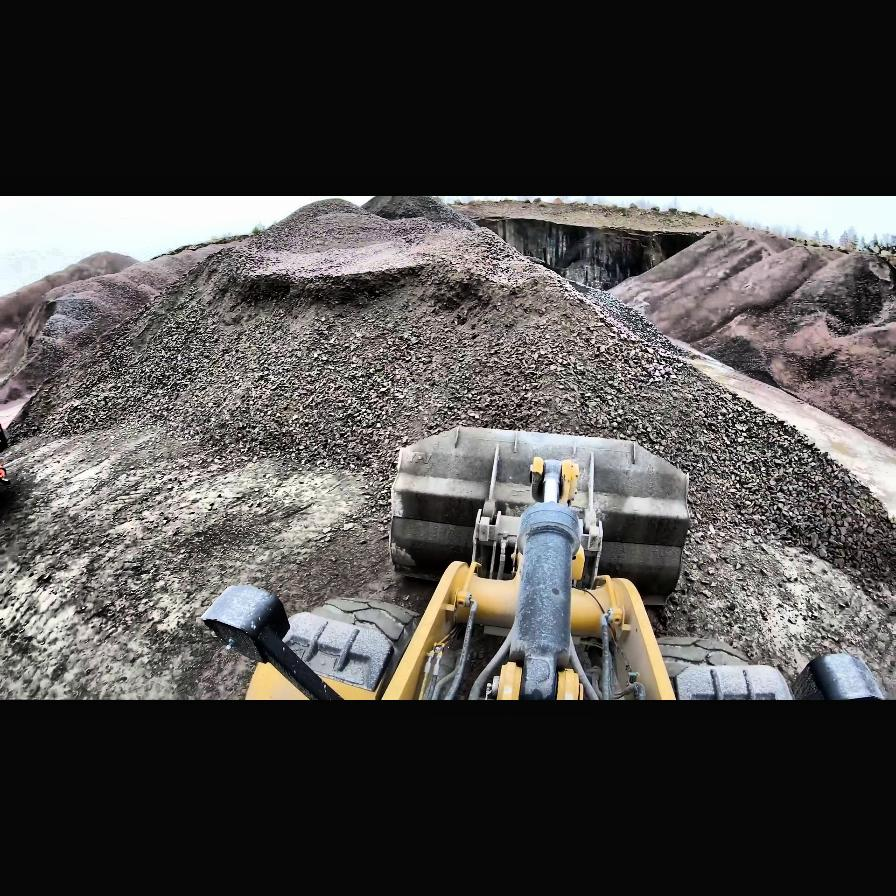anchor: (530, 458, 580, 506)
pile of gravel: (0, 196, 896, 592), (602, 226, 896, 449), (0, 254, 142, 426), (662, 238, 824, 336)
